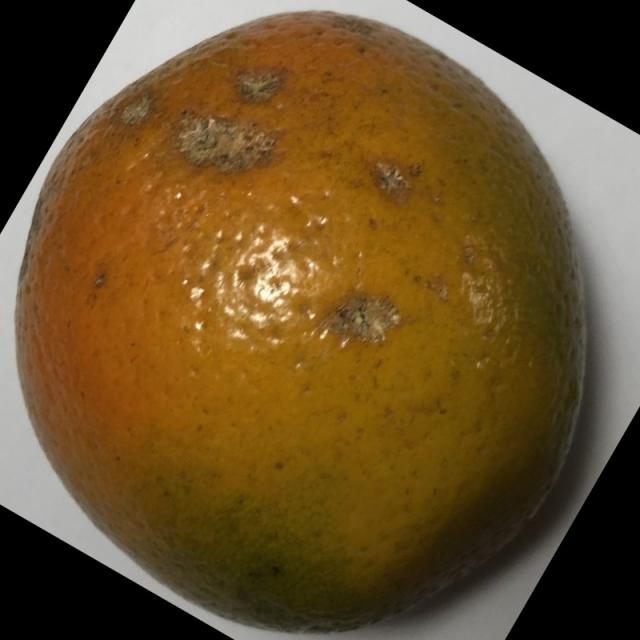canker: (14, 6, 617, 640)
